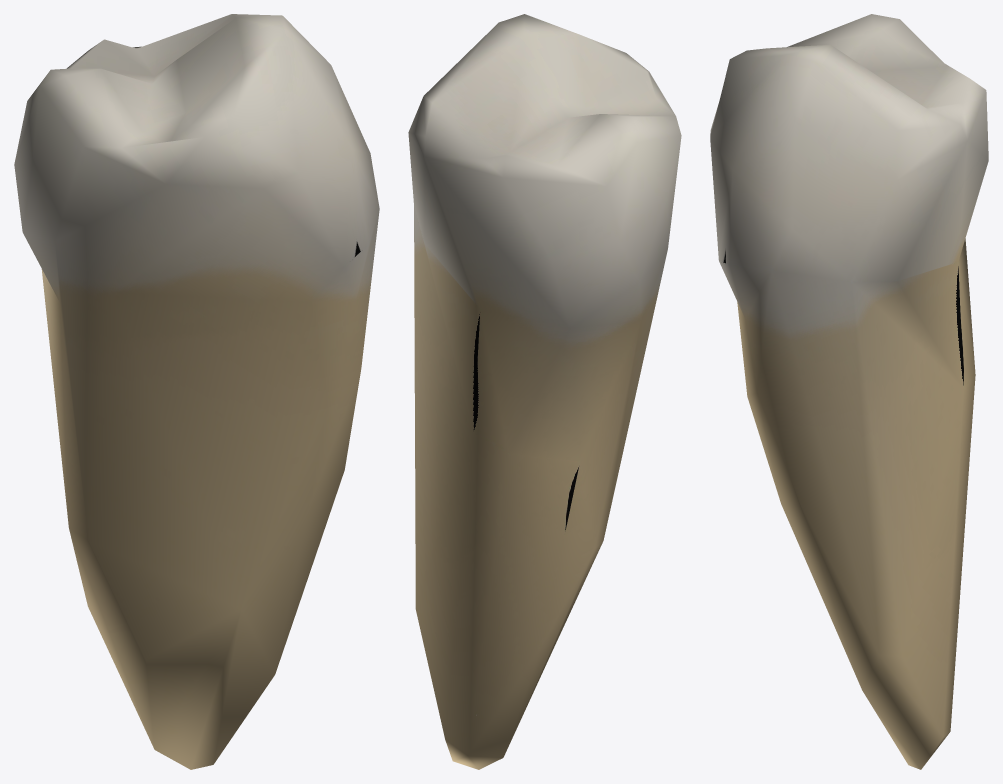
3 renders of one model, left to right at view 1: azimuth 30°, elevation 25°; view 2: azimuth 150°, elevation 25°; view 3: azimuth 270°, elevation 25°, orthographic. The views are drawn at different scales.
Parts seen in each view (by area): view 1: Object_2; view 2: Object_2; view 3: Object_2.
Boxes of the visible parts, x1=… form: Object_2: x1=14, y1=14, x2=379, y2=769; Object_2: x1=408, y1=14, x2=681, y2=769; Object_2: x1=710, y1=14, x2=988, y2=769.
Size of the model in its own units: 0.7438 by 1.9 by 0.6692.
1 material, 1 textured.
